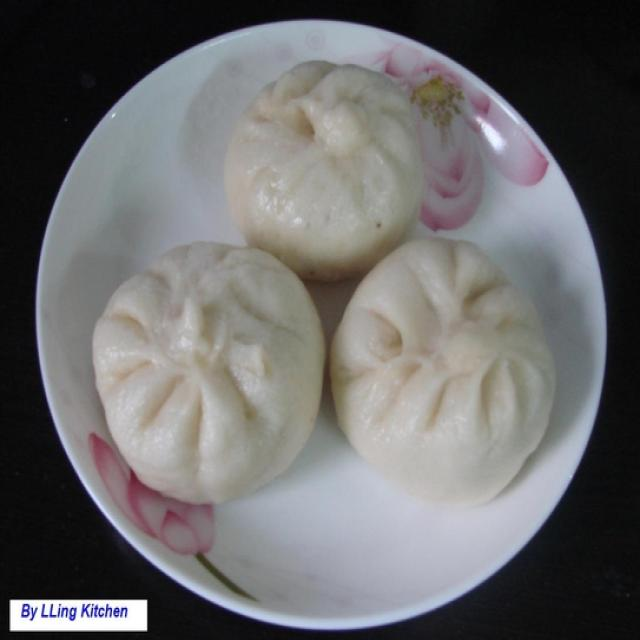带馅早点: (87, 56, 564, 538)
